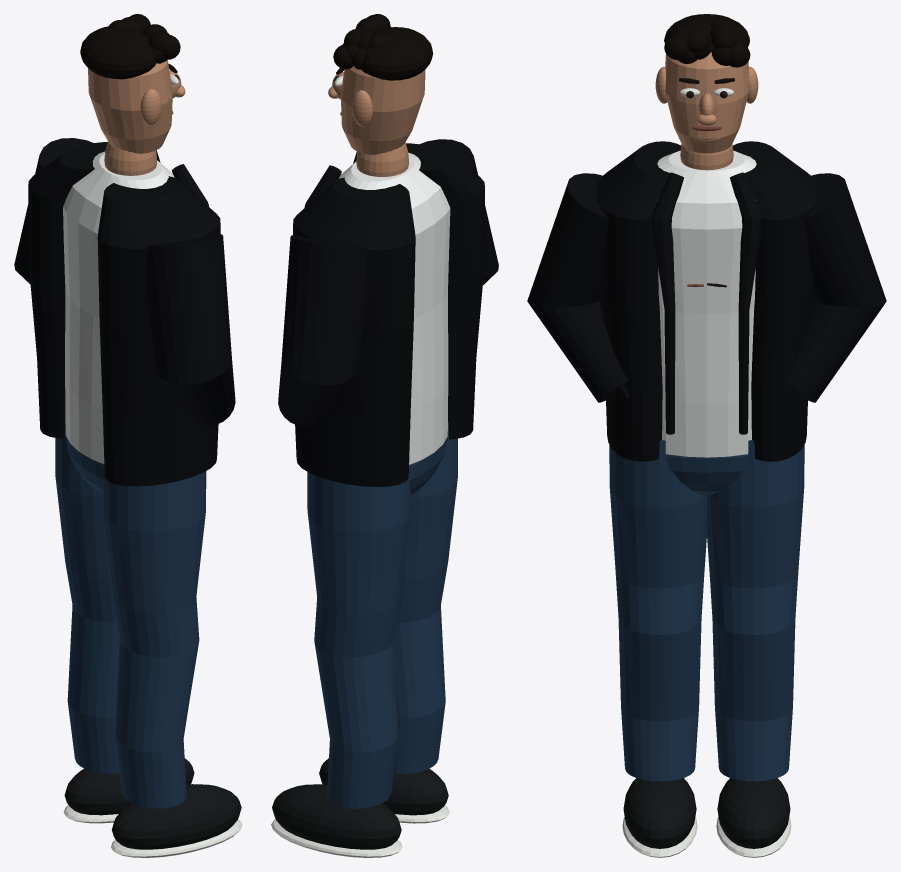
Rendered from person.dae.
3 renders of one model, left to right at view 1: azimuth 30°, elevation 25°; view 2: azimuth 150°, elevation 25°; view 3: azimuth 270°, elevation 25°, orthographic.
Visible parts, largest first — view 1: Person; view 2: Person; view 3: Person.
Boxes of the visible parts, box(x1,y1,x2,y2) form: Person: box(14, 14, 242, 857); Person: box(271, 14, 498, 857); Person: box(527, 14, 886, 857).
Size of the model in its own units: 0.3482 by 0.7281 by 1.8.
